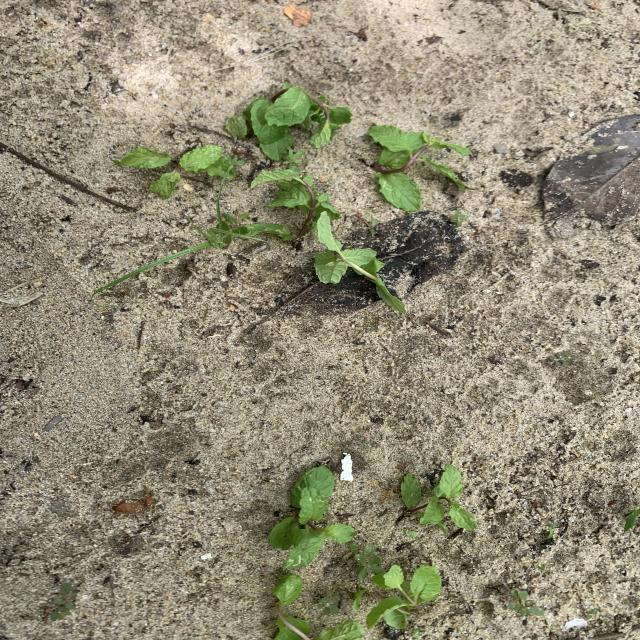crop: (227, 84, 351, 159), (367, 125, 469, 210), (270, 466, 355, 567), (249, 167, 341, 249), (314, 241, 405, 311), (272, 573, 361, 639), (124, 145, 232, 199), (401, 464, 475, 535), (367, 565, 442, 627)
weed: (105, 226, 231, 289), (208, 213, 254, 245), (47, 583, 78, 619), (354, 544, 382, 579), (508, 590, 543, 615), (318, 587, 339, 614), (548, 351, 575, 366), (362, 212, 378, 235), (624, 509, 639, 530), (449, 211, 467, 227), (286, 150, 303, 166), (353, 588, 365, 608), (547, 522, 558, 539), (406, 531, 419, 537)
